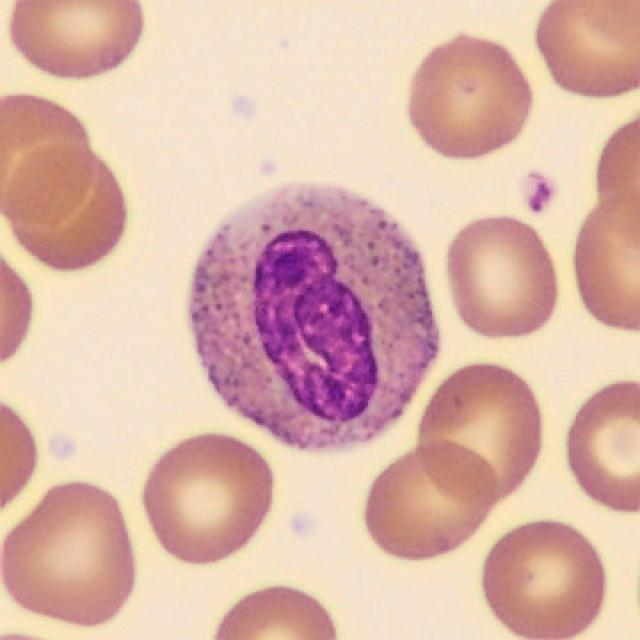Neutrofilo segmentado: (188, 181, 439, 453)
